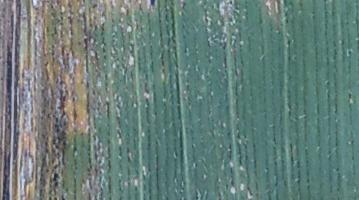tarspot: (52, 172, 59, 182), (346, 90, 353, 100), (149, 1, 156, 8), (347, 49, 353, 57), (53, 181, 59, 187), (61, 195, 66, 200), (49, 196, 53, 200), (54, 197, 59, 200)
